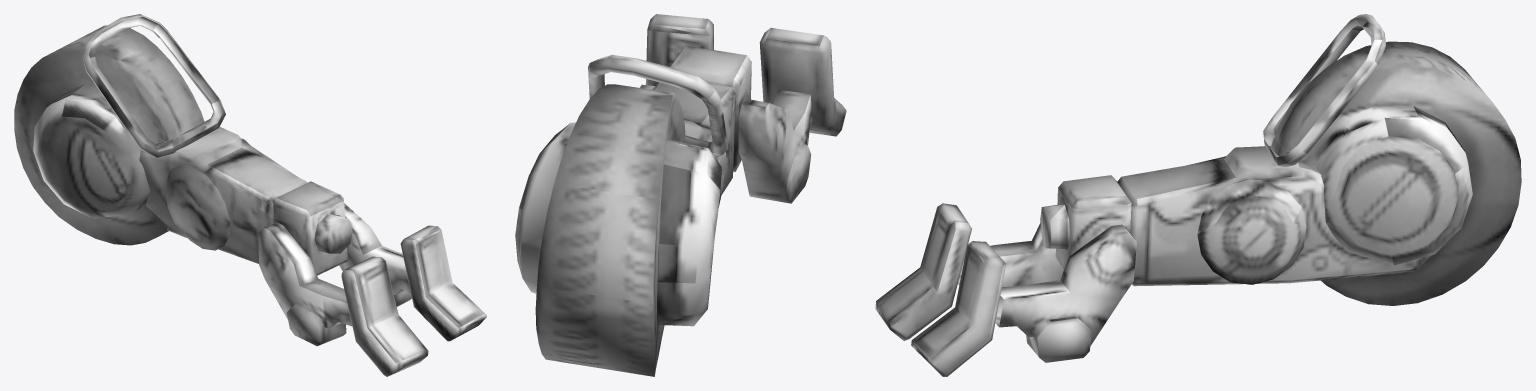
Rendered from l_foot.glb.
The picture shows the model from 3 angles, left to right: view 1: azimuth 30°, elevation 25°; view 2: azimuth 150°, elevation 25°; view 3: azimuth 270°, elevation 25°; orthographic projection. The views are drawn at different scales.
Visible parts, largest first — view 1: l_foot; view 2: l_foot; view 3: l_foot.
Boxes of the visible parts, box(x1,y1,x2,y2) form: l_foot: box(14, 14, 486, 376); l_foot: box(515, 14, 846, 376); l_foot: box(875, 14, 1521, 376).
Size of the model in its own units: 0.7261 by 0.625 by 1.41.
3 materials, 3 textured.
